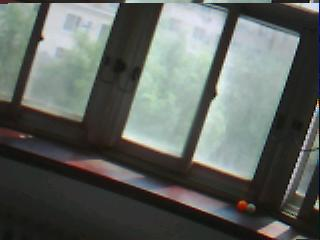oball: (237, 200, 247, 209)
